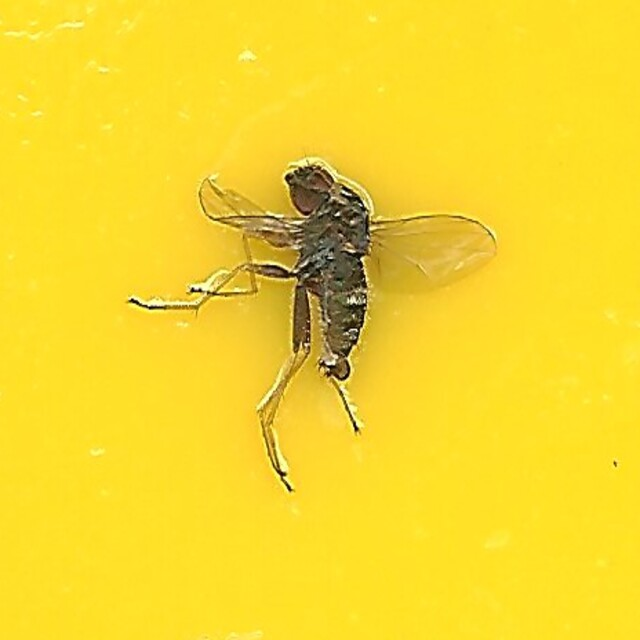Brachycera: (138, 159, 502, 481)
